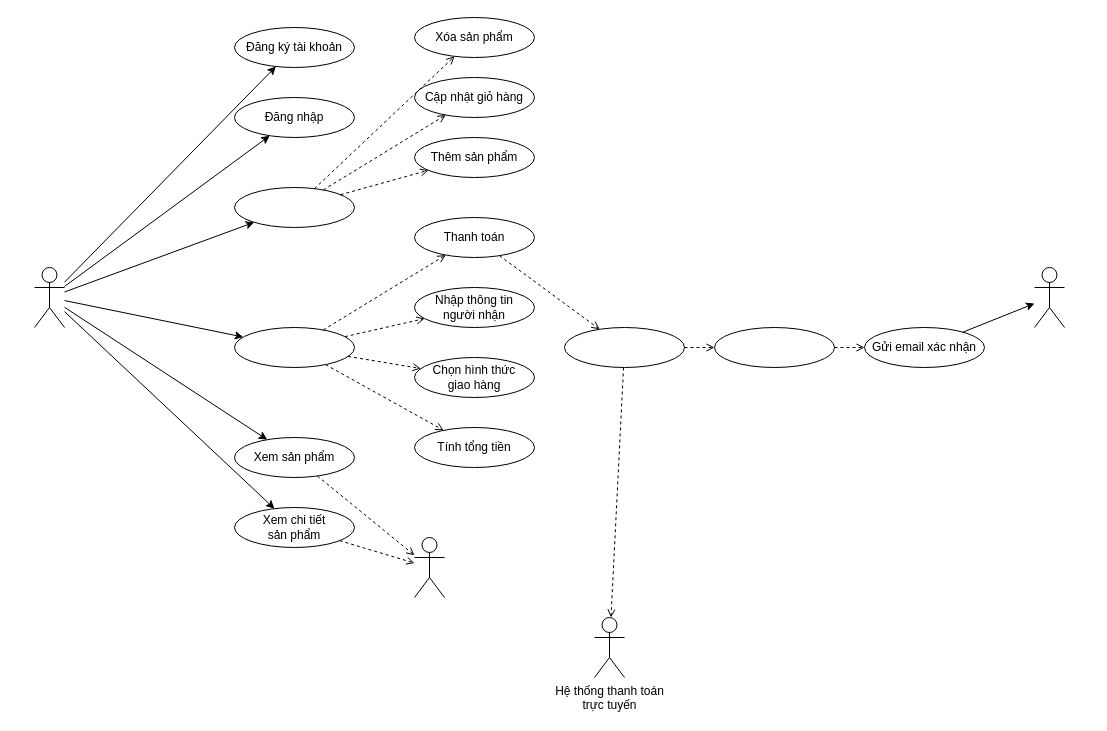
The diagram is 1107 pixels wide and 731 high, and some of its shapes have lost their labels. The centre of each missing label's shape, as x and y in pixels:
"Ghi nhận đơn hàng" goes at [774,347].
"Hệ thống Email" goes at [1049,297].
"Hệ thống quản lý sản phẩm" goes at [429,567].
"Khách hàng" goes at [49,297].
"Kiểm tra thanh toán" goes at [624,347].
"Quản lý giỏ hàng" goes at [294,207].
"Đặt hàng" goes at [294,347].
